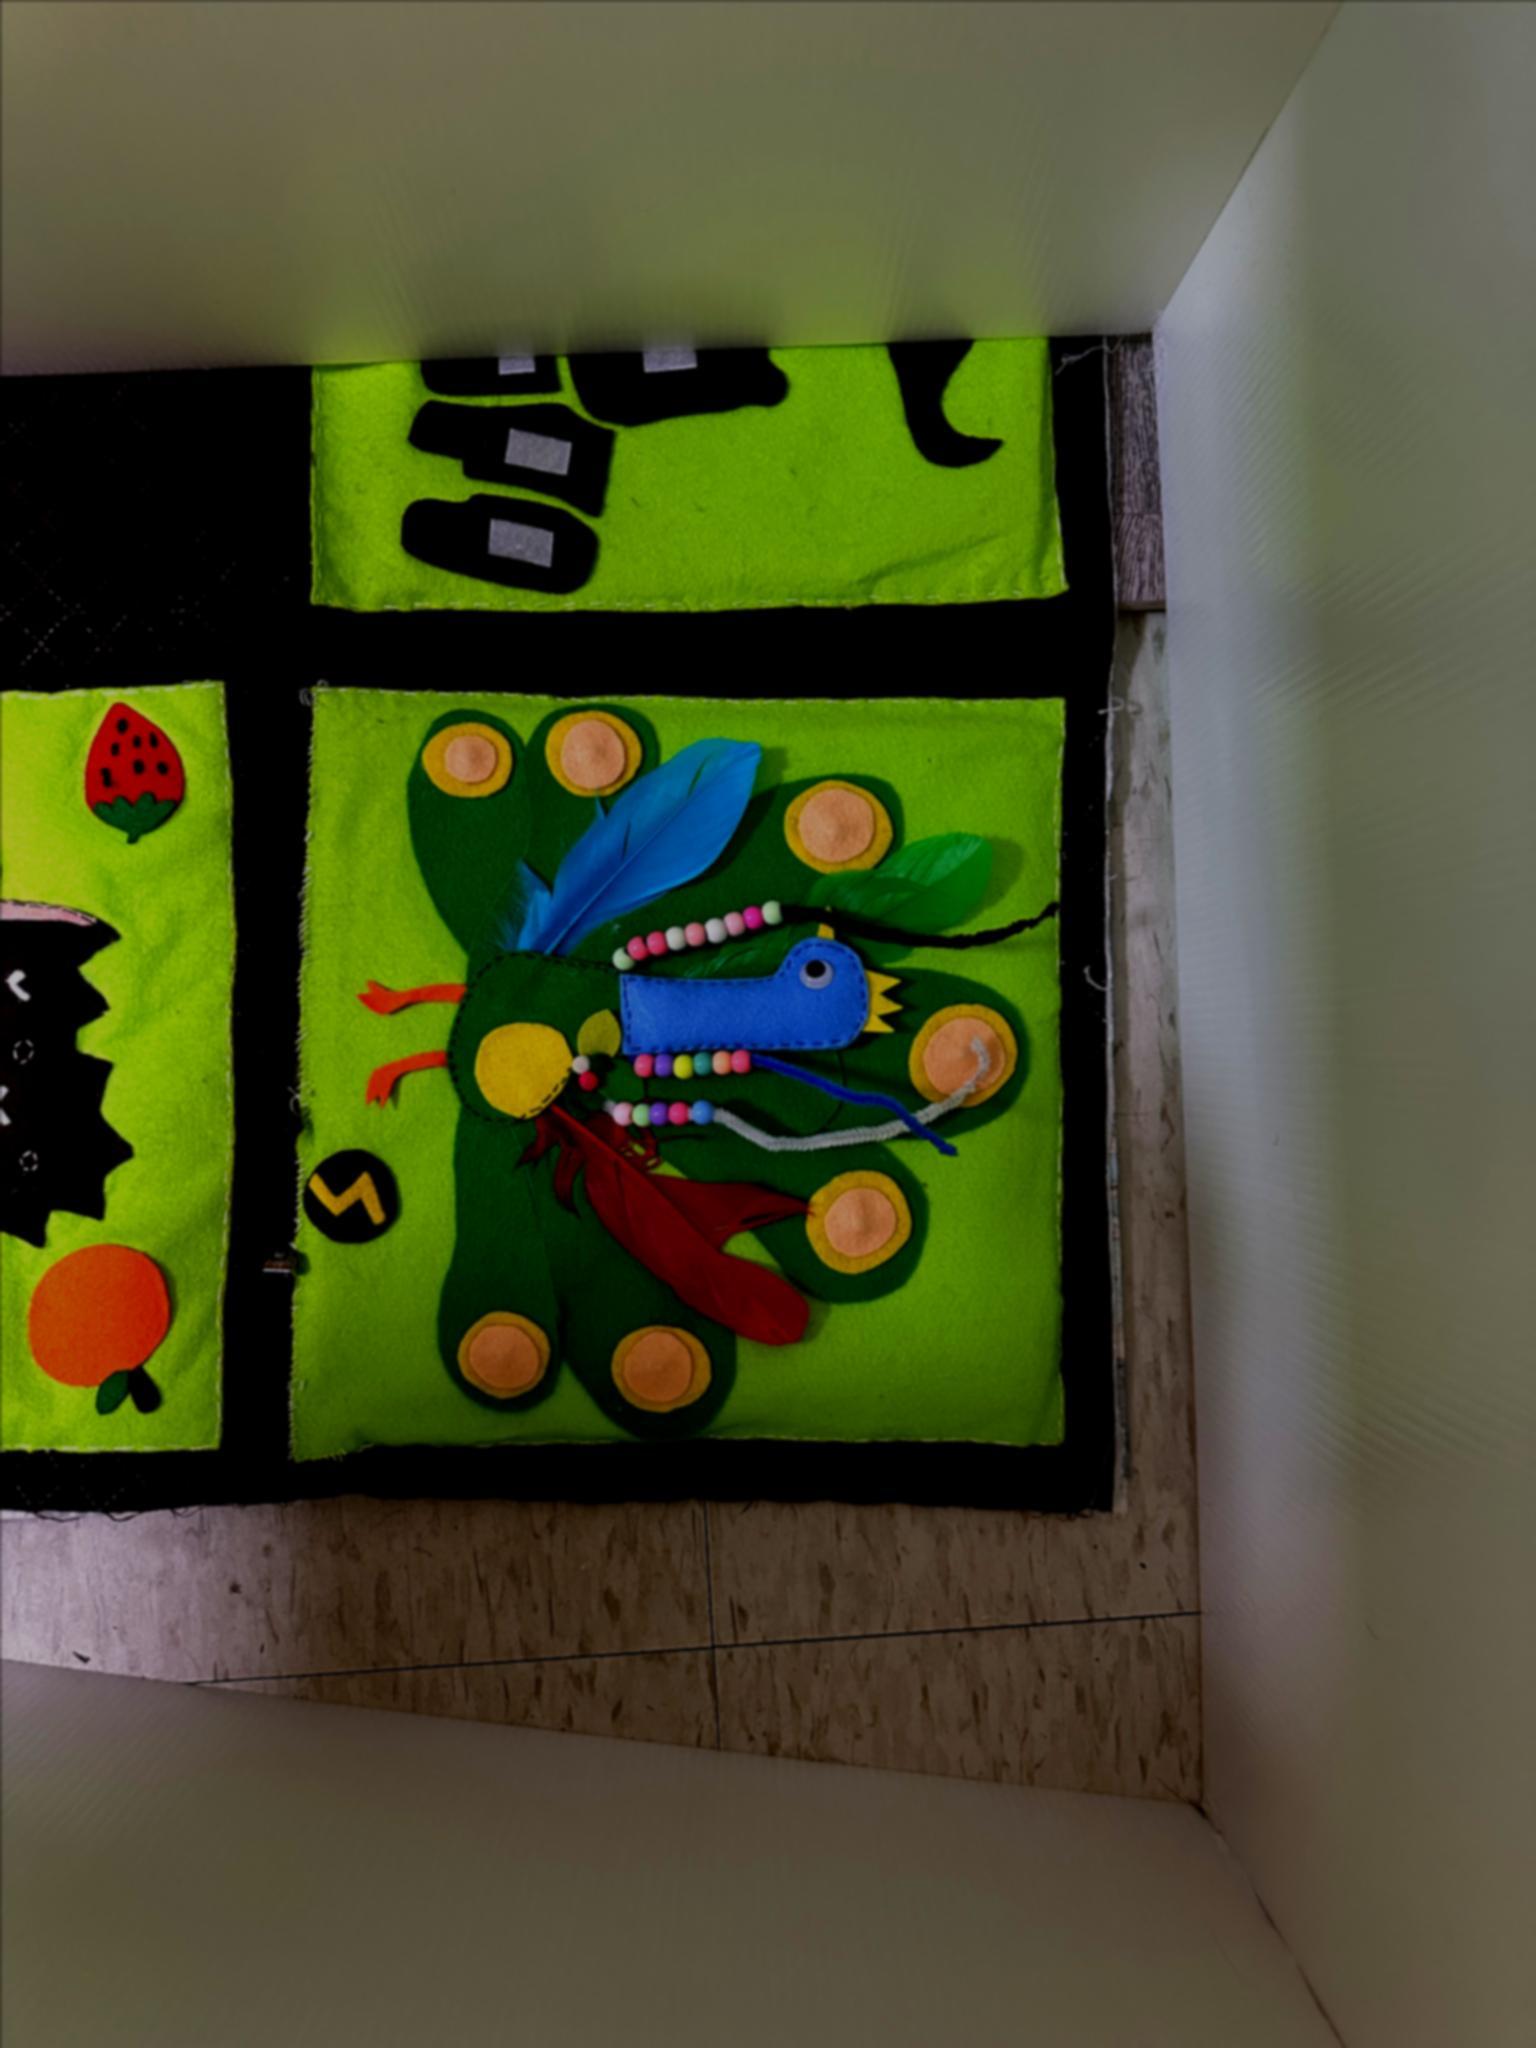bead: (708, 1048, 731, 1074), (726, 1050, 750, 1072), (689, 1100, 713, 1121), (742, 901, 762, 927), (760, 900, 781, 922), (650, 1053, 671, 1076), (671, 1055, 692, 1077), (684, 922, 703, 947), (723, 911, 742, 935), (611, 945, 632, 966), (629, 1106, 650, 1127), (668, 1101, 689, 1122), (692, 1050, 712, 1072), (634, 1053, 652, 1077), (628, 937, 647, 958), (705, 919, 724, 940), (610, 1103, 631, 1122), (649, 929, 665, 953), (666, 927, 684, 948), (650, 1103, 668, 1124)
